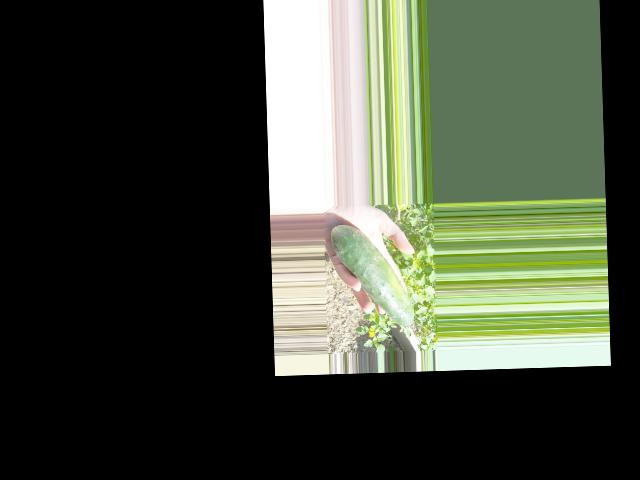cucumber: (330, 223, 413, 329)
